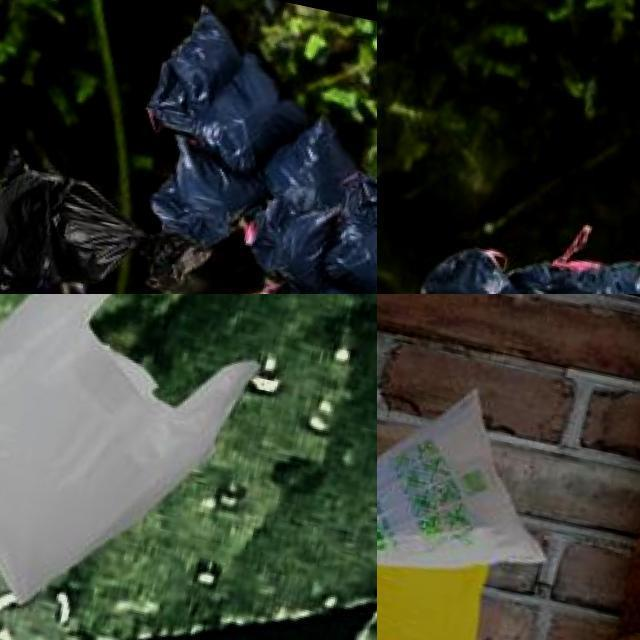waste: (0, 294, 279, 635), (377, 370, 585, 594), (135, 1, 323, 180), (0, 145, 221, 294), (377, 501, 503, 640), (234, 192, 341, 284), (400, 239, 536, 294), (310, 217, 377, 294), (510, 255, 640, 294), (340, 169, 377, 240)
